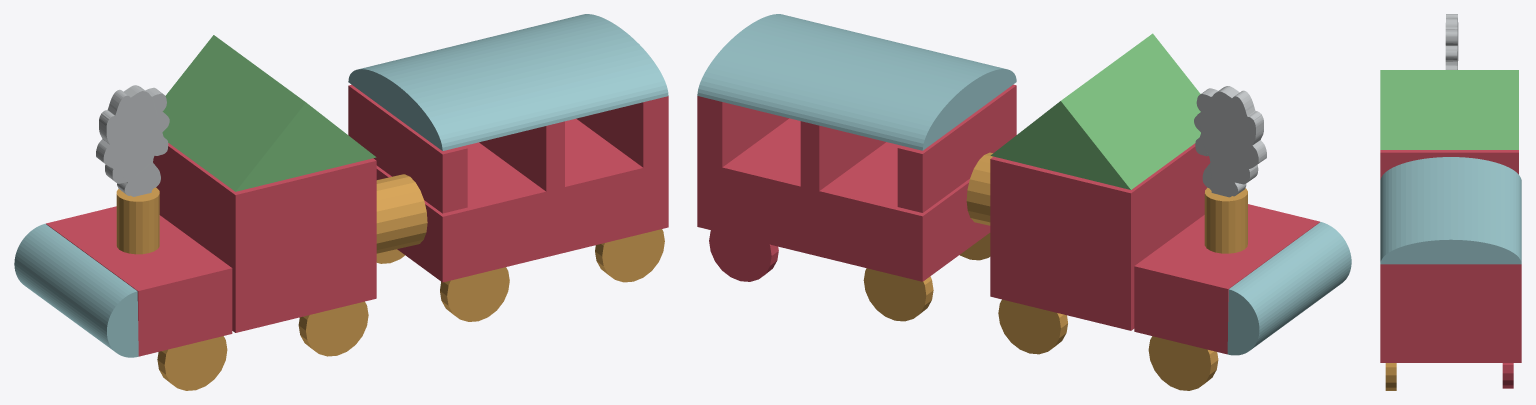
Rendered from train.glb.
3 renders of one model, left to right at view 1: azimuth 30°, elevation 25°; view 2: azimuth 150°, elevation 25°; view 3: azimuth 270°, elevation 25°, orthographic. The views are drawn at different scales.
Parts seen in each view (by area): view 1: Mesh_Mesh_head_geo.001_lambert2SG.001; view 2: Mesh_Mesh_head_geo.001_lambert2SG.001; view 3: Mesh_Mesh_head_geo.001_lambert2SG.001.
Part boxes in pixels (left/top/right/bottom): Mesh_Mesh_head_geo.001_lambert2SG.001: left=14, top=14, right=668, bottom=390; Mesh_Mesh_head_geo.001_lambert2SG.001: left=697, top=14, right=1351, bottom=390; Mesh_Mesh_head_geo.001_lambert2SG.001: left=1380, top=14, right=1521, bottom=390.
Bounding box in the file's own units: 179 × 82.63 × 52.
